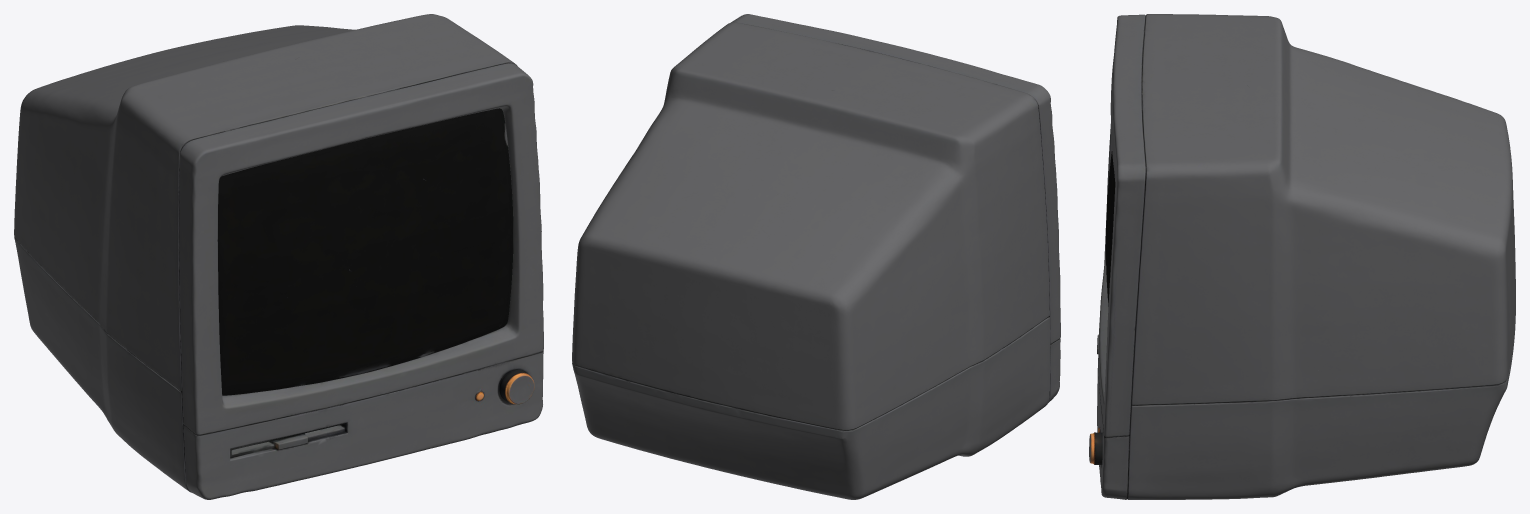
File: pc-grafite.glb
The picture shows the model from 3 angles, left to right: view 1: azimuth 30°, elevation 25°; view 2: azimuth 150°, elevation 25°; view 3: azimuth 270°, elevation 25°; orthographic projection. The views are drawn at different scales.
Parts seen in each view (by area): view 1: tripo_node_ddf9ac04-33a5-4903-b646-578feb15d637; view 2: tripo_node_ddf9ac04-33a5-4903-b646-578feb15d637; view 3: tripo_node_ddf9ac04-33a5-4903-b646-578feb15d637.
Boxes of the visible parts, x1,y1,x2,y2 form: tripo_node_ddf9ac04-33a5-4903-b646-578feb15d637: (14, 14, 543, 499); tripo_node_ddf9ac04-33a5-4903-b646-578feb15d637: (572, 14, 1060, 499); tripo_node_ddf9ac04-33a5-4903-b646-578feb15d637: (1089, 14, 1515, 499).
Bounding box in the file's own units: 0.9276 × 0.8807 × 1.
Materials: 1 (1 with a texture image).
